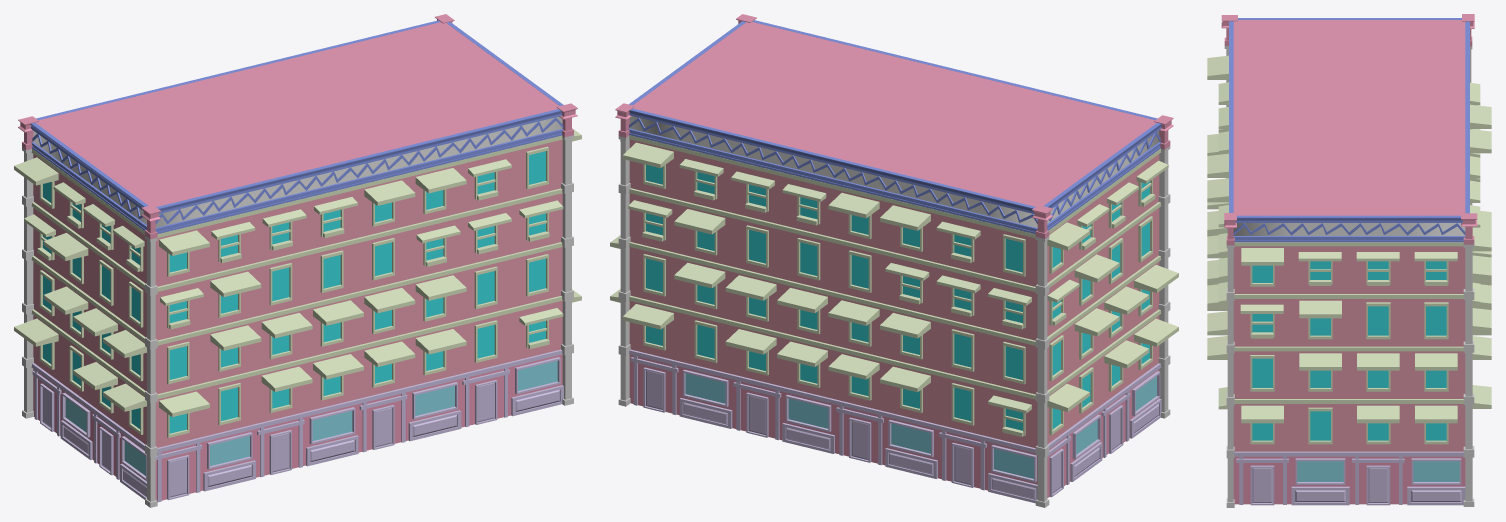
The model's file is PRP_New_Building_02.fbx.
3 views of the same model, side by side, from view 1: azimuth 30°, elevation 25°; view 2: azimuth 150°, elevation 25°; view 3: azimuth 270°, elevation 25° (orthographic). The views are drawn at different scales.
Visible parts, largest first — view 1: Cube.001; view 2: Cube.001; view 3: Cube.001.
Part boxes in pixels (x1,y1,x2,y2): Cube.001: (14,14,581,507); Cube.001: (610,14,1178,507); Cube.001: (1207,14,1491,507).
Size of the model in its own units: 891 by 551 by 491.
